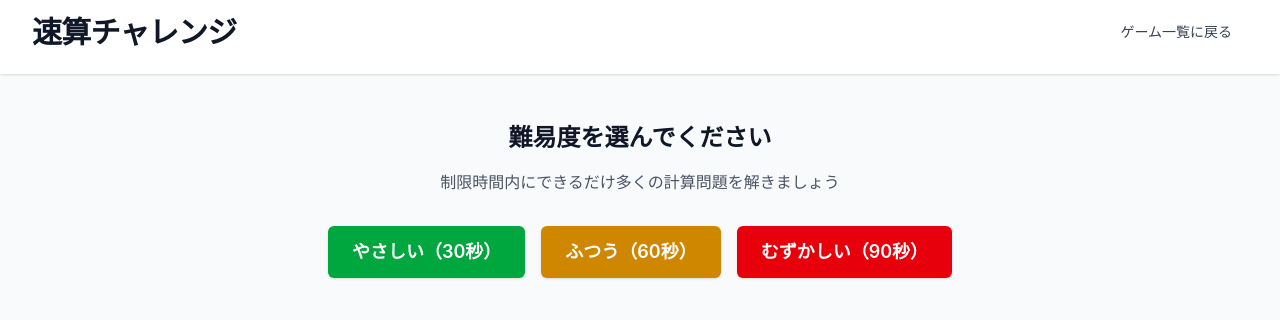
Test: QuickCalcGame › should show math problem when playing
The image size is (1280, 320).
What coordinates should you click on to do the following:
click the button "やさしい（30秒）"
I would click on:
 (427, 252)
Its box is [328, 226, 525, 278].
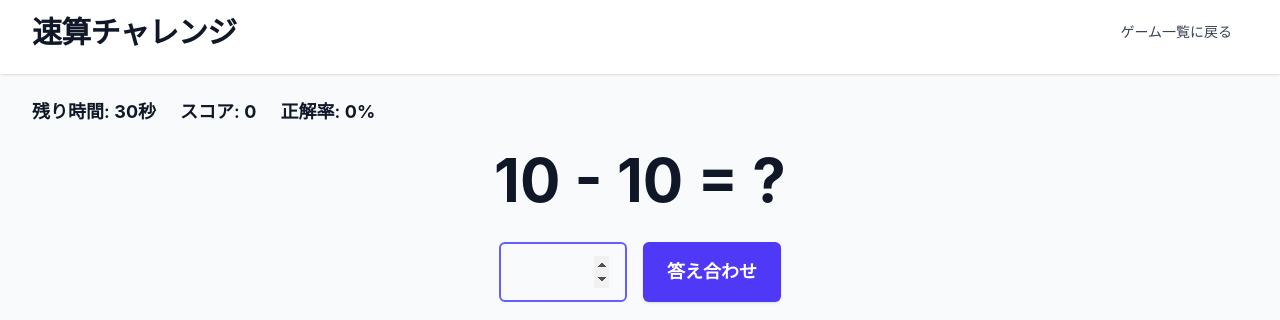
Expected: the text "10 - 10 = ?" is shown, [494, 150, 786, 210]
